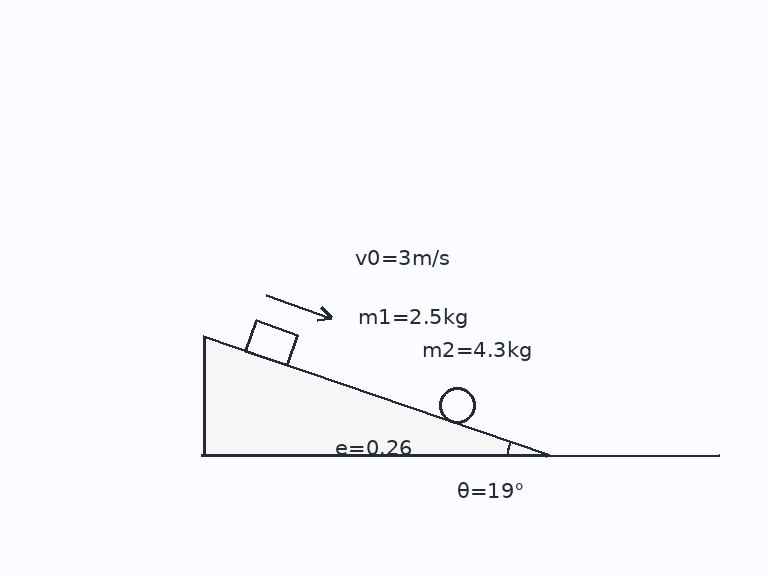ball: (437, 385, 477, 425)
block: (243, 318, 299, 367)
ramp: (201, 334, 550, 457)
